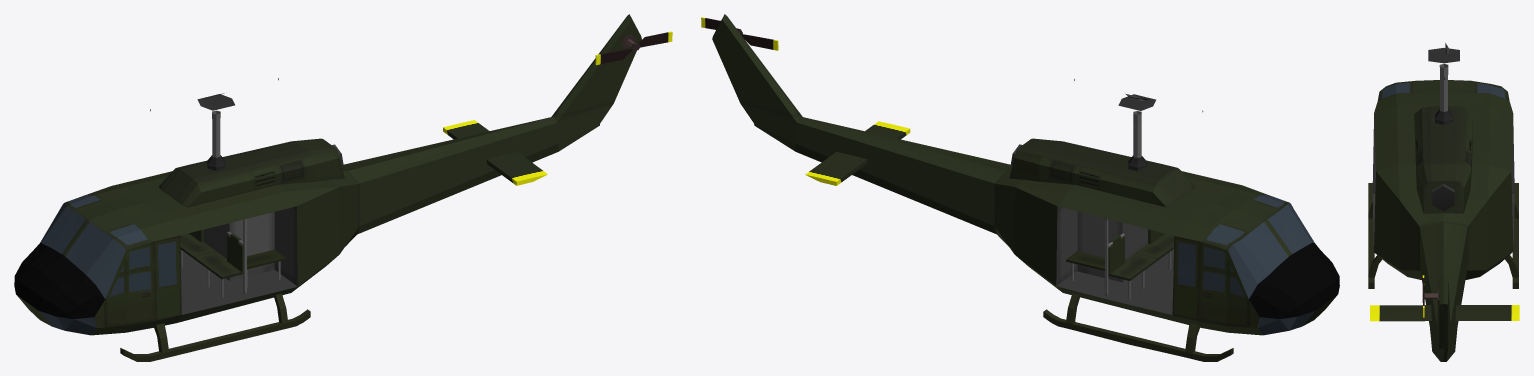
The model's file is Vehicle_helibody.fbx.
3 views of the same model, side by side, from view 1: azimuth 30°, elevation 25°; view 2: azimuth 150°, elevation 25°; view 3: azimuth 270°, elevation 25° (orthographic).
Parts seen in each view (by area): view 1: Cube.001_Cube.009_Cube.001_Cube.010_Cube.001_Cube.009_Cube..; view 2: Cube.001_Cube.009_Cube.001_Cube.010_Cube.001_Cube.009_Cube..; view 3: Cube.001_Cube.009_Cube.001_Cube.010_Cube.001_Cube.009_Cube...
Boxes of the visible parts, box(x1,y1,x2,y2) form: Cube.001_Cube.009_Cube.001_Cube.010_Cube.001_Cube.009_Cube..: box(14, 14, 672, 361); Cube.001_Cube.009_Cube.001_Cube.010_Cube.001_Cube.009_Cube..: box(701, 14, 1339, 361); Cube.001_Cube.009_Cube.001_Cube.010_Cube.001_Cube.009_Cube..: box(1368, 43, 1519, 361).
Bounding box in the file's own units: 4503 × 1468 × 911.
